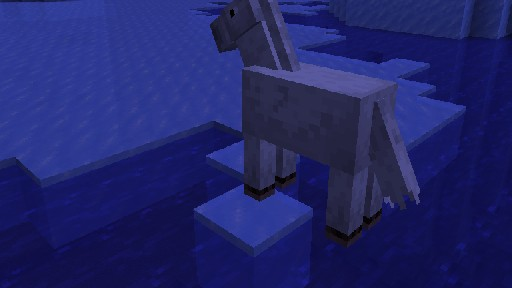horse: (209, 0, 421, 247)
